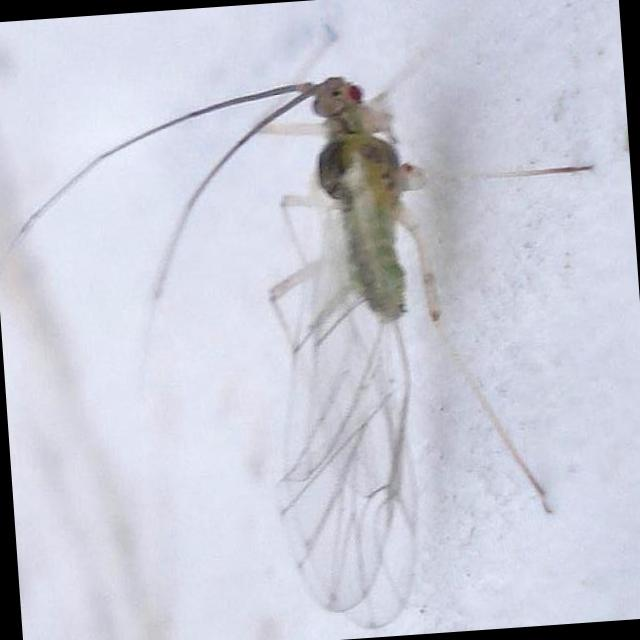aphid: (146, 37, 474, 604)
